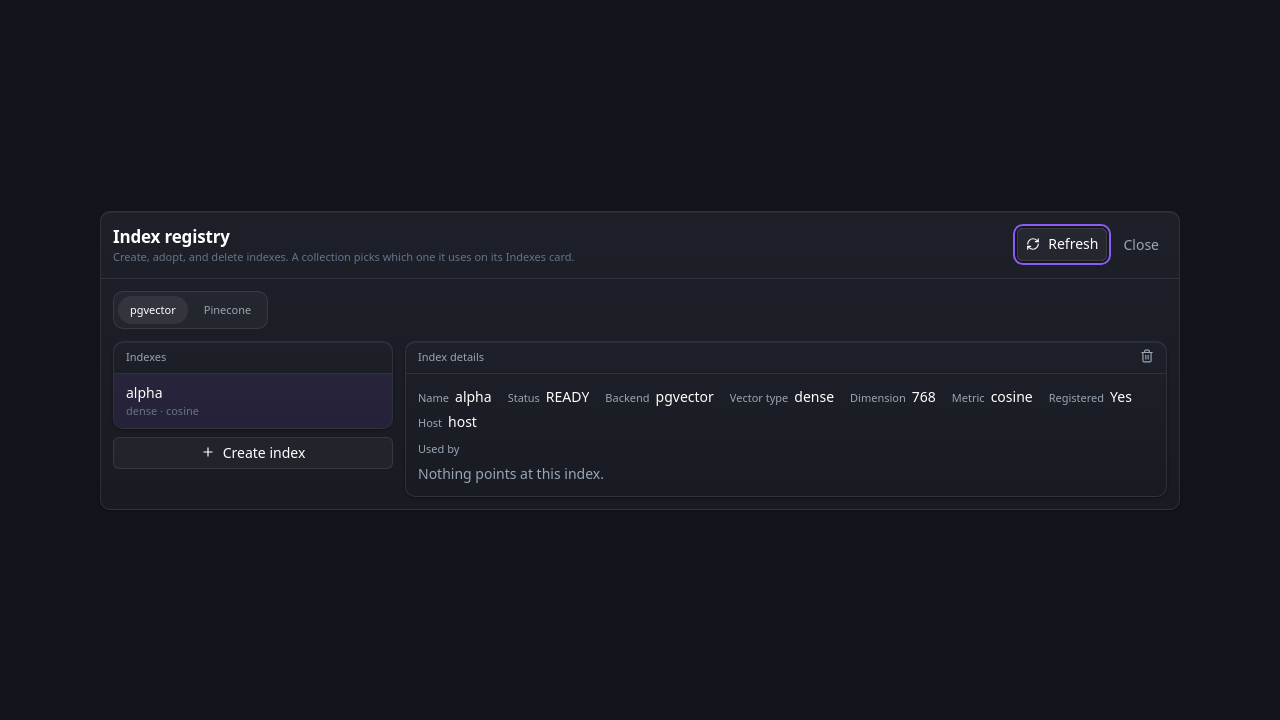
Test case: IndexRegistryModal › switches between index list views
This screenshot has width=1280, height=720.
Step 1. Click the button "Create index" → (253, 453), box 113,436 -> 393,469
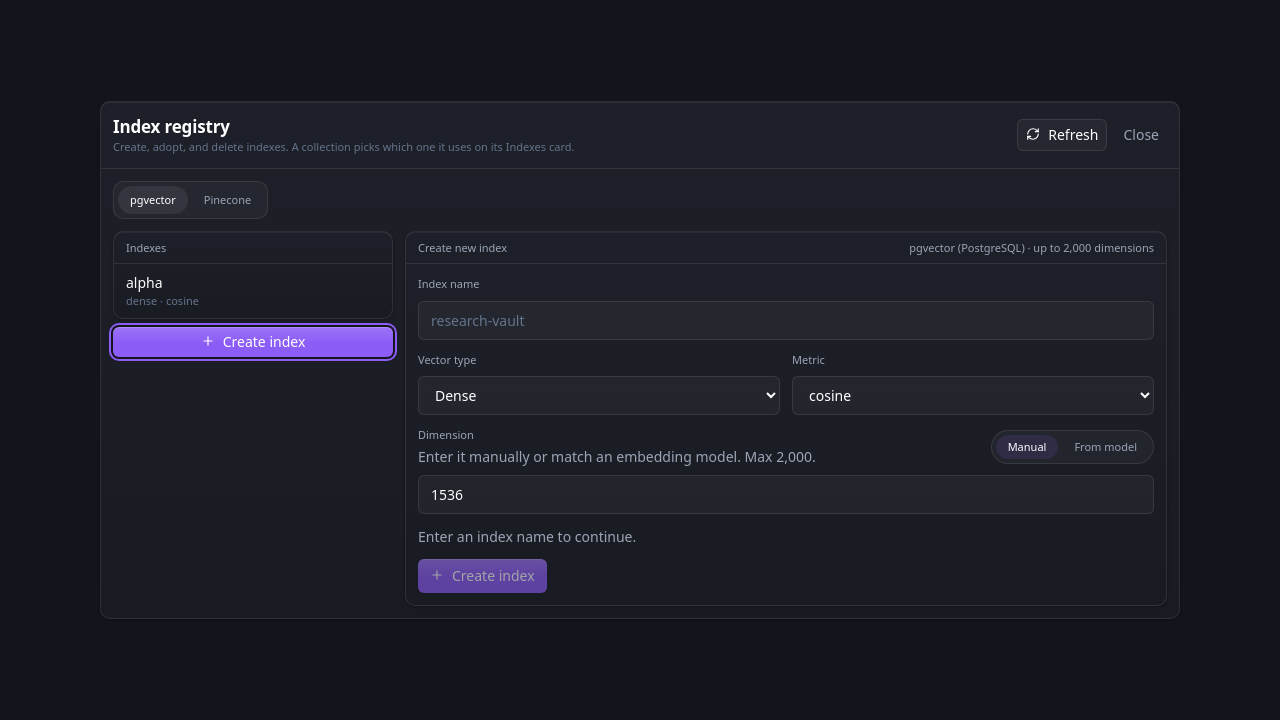
Check: the text "Create new index" is shown, box 418,240 -> 507,256
Step 2. Click the button "alpha dense · cosine" → (144, 283), box 114,264 -> 392,318
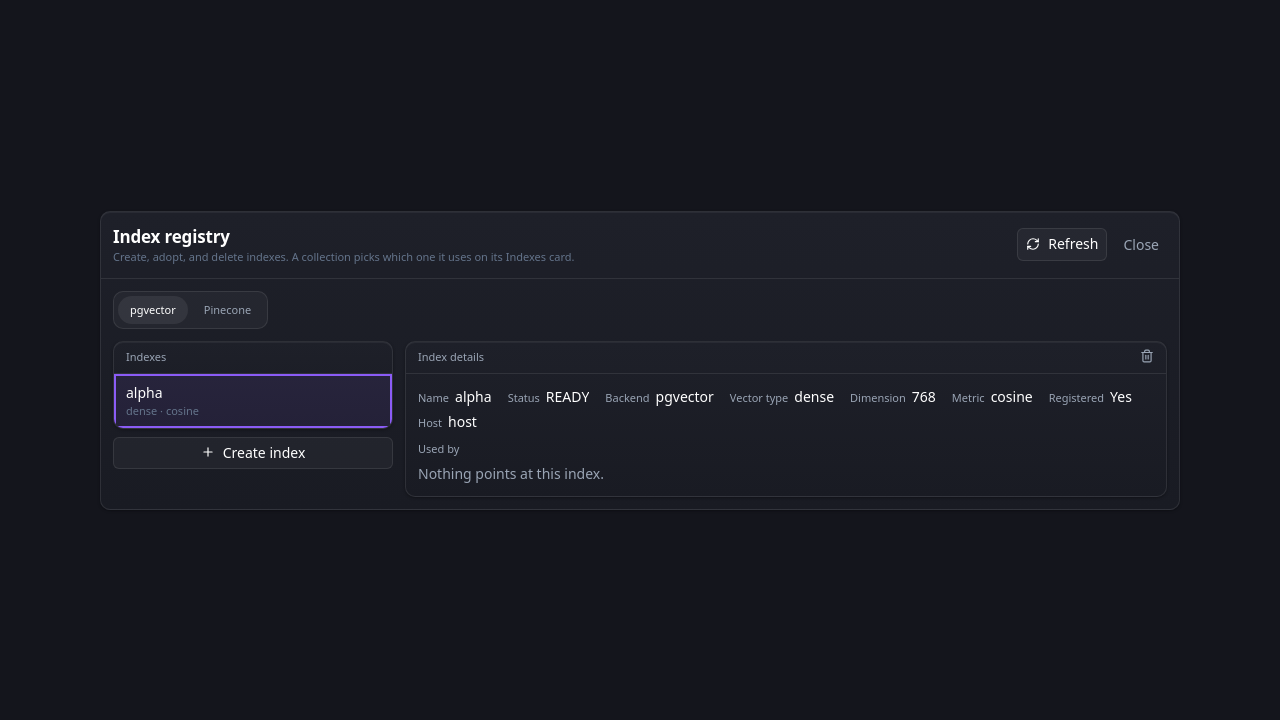
Check: the text "Index details" is shown, box 418,349 -> 484,366
